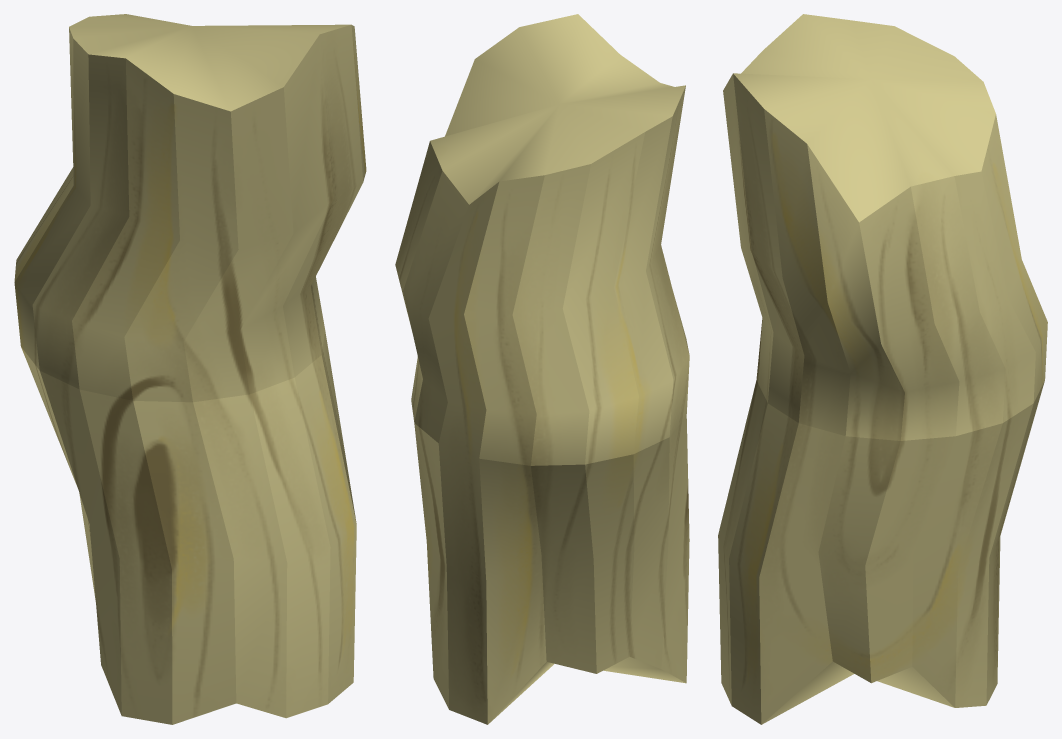
Rendered from breakableTwig_Center.fbx.
3 renders of one model, left to right at view 1: azimuth 30°, elevation 25°; view 2: azimuth 150°, elevation 25°; view 3: azimuth 270°, elevation 25°, orthographic. The views are drawn at different scales.
Visible parts, largest first — view 1: polySurface13; view 2: polySurface13; view 3: polySurface13.
Part boxes in pixels (bbox=[...]): polySurface13: bbox=[14, 14, 366, 724]; polySurface13: bbox=[395, 14, 689, 724]; polySurface13: bbox=[718, 14, 1047, 724].
Size of the model in its own units: 71.01 by 150 by 71.24.
1 material, 1 textured.
